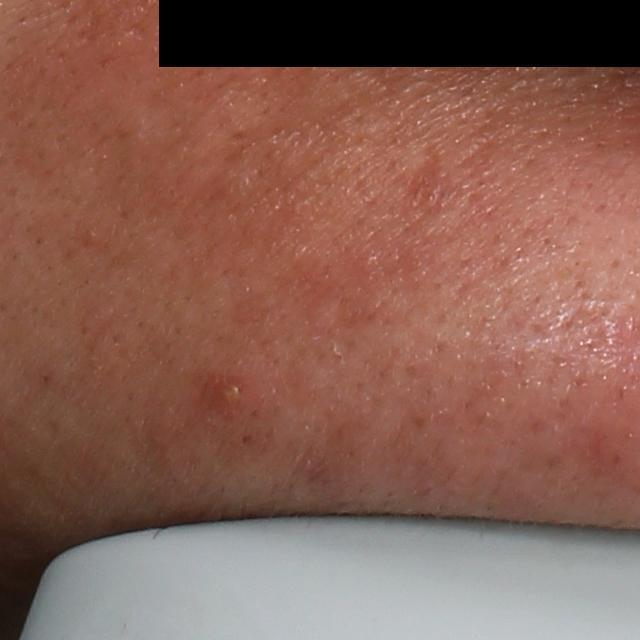pustule: (204, 374, 249, 414)
